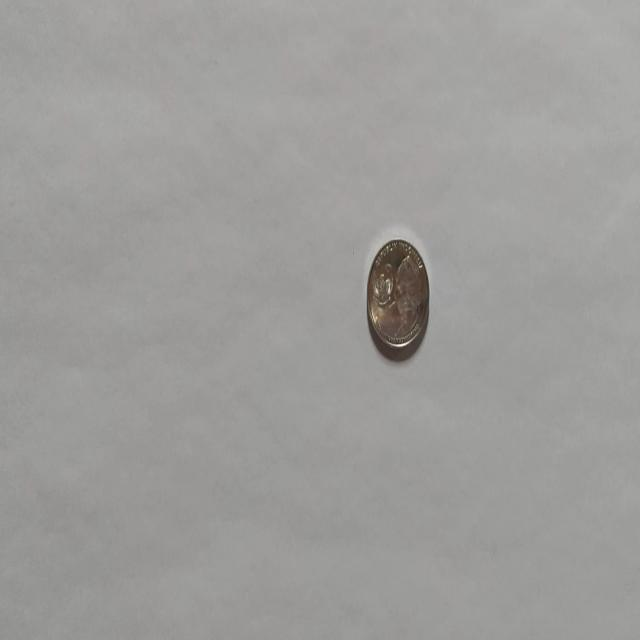dua ratus rupiah: (366, 236, 430, 352)
